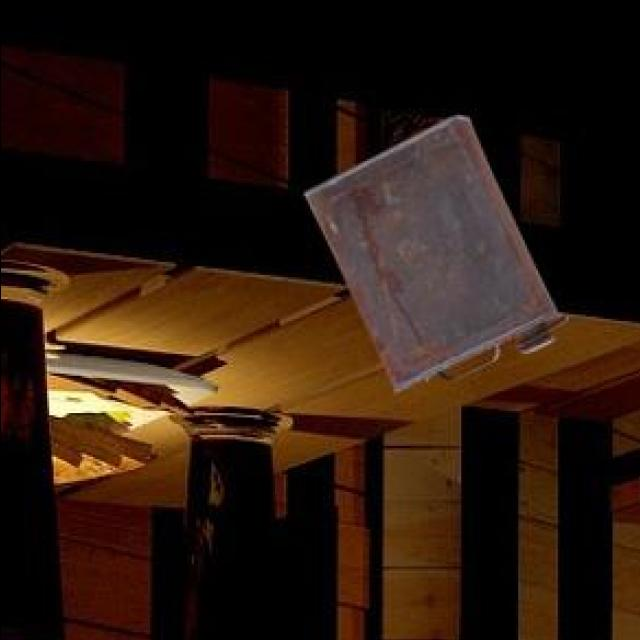logam: (301, 117, 562, 393)
